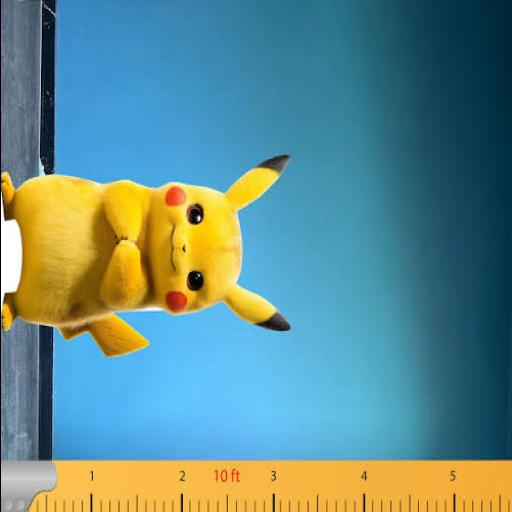Pikachu: (0, 154, 292, 356)
